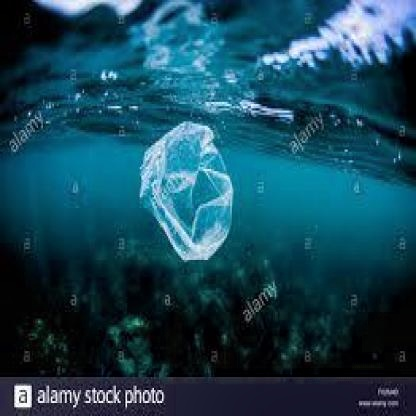pbag: (138, 120, 235, 264)
